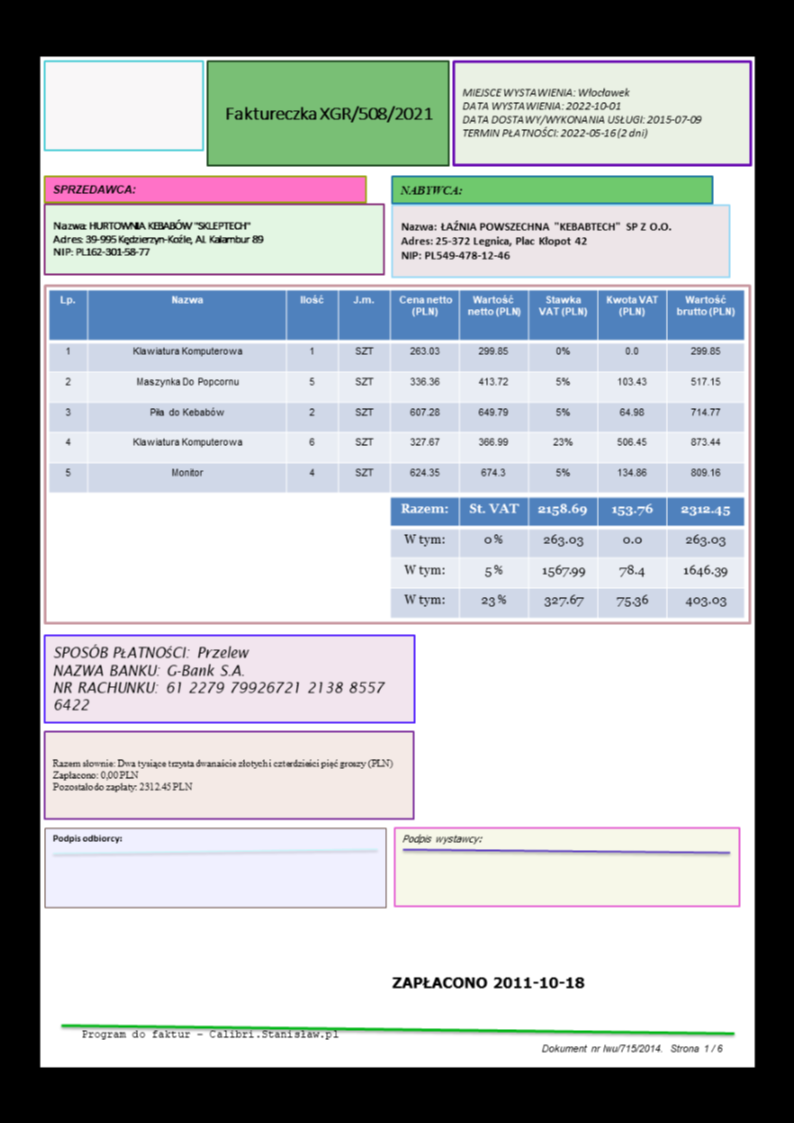Table: (46, 287, 744, 493), (387, 494, 743, 620)
TextBox: (50, 640, 390, 718), (47, 755, 398, 798), (456, 83, 705, 143), (397, 215, 676, 266), (47, 216, 268, 260), (219, 100, 433, 126), (384, 969, 589, 994), (78, 1025, 341, 1043), (536, 1037, 726, 1057), (398, 827, 483, 851), (47, 179, 137, 198), (46, 829, 124, 848), (395, 179, 462, 197)
